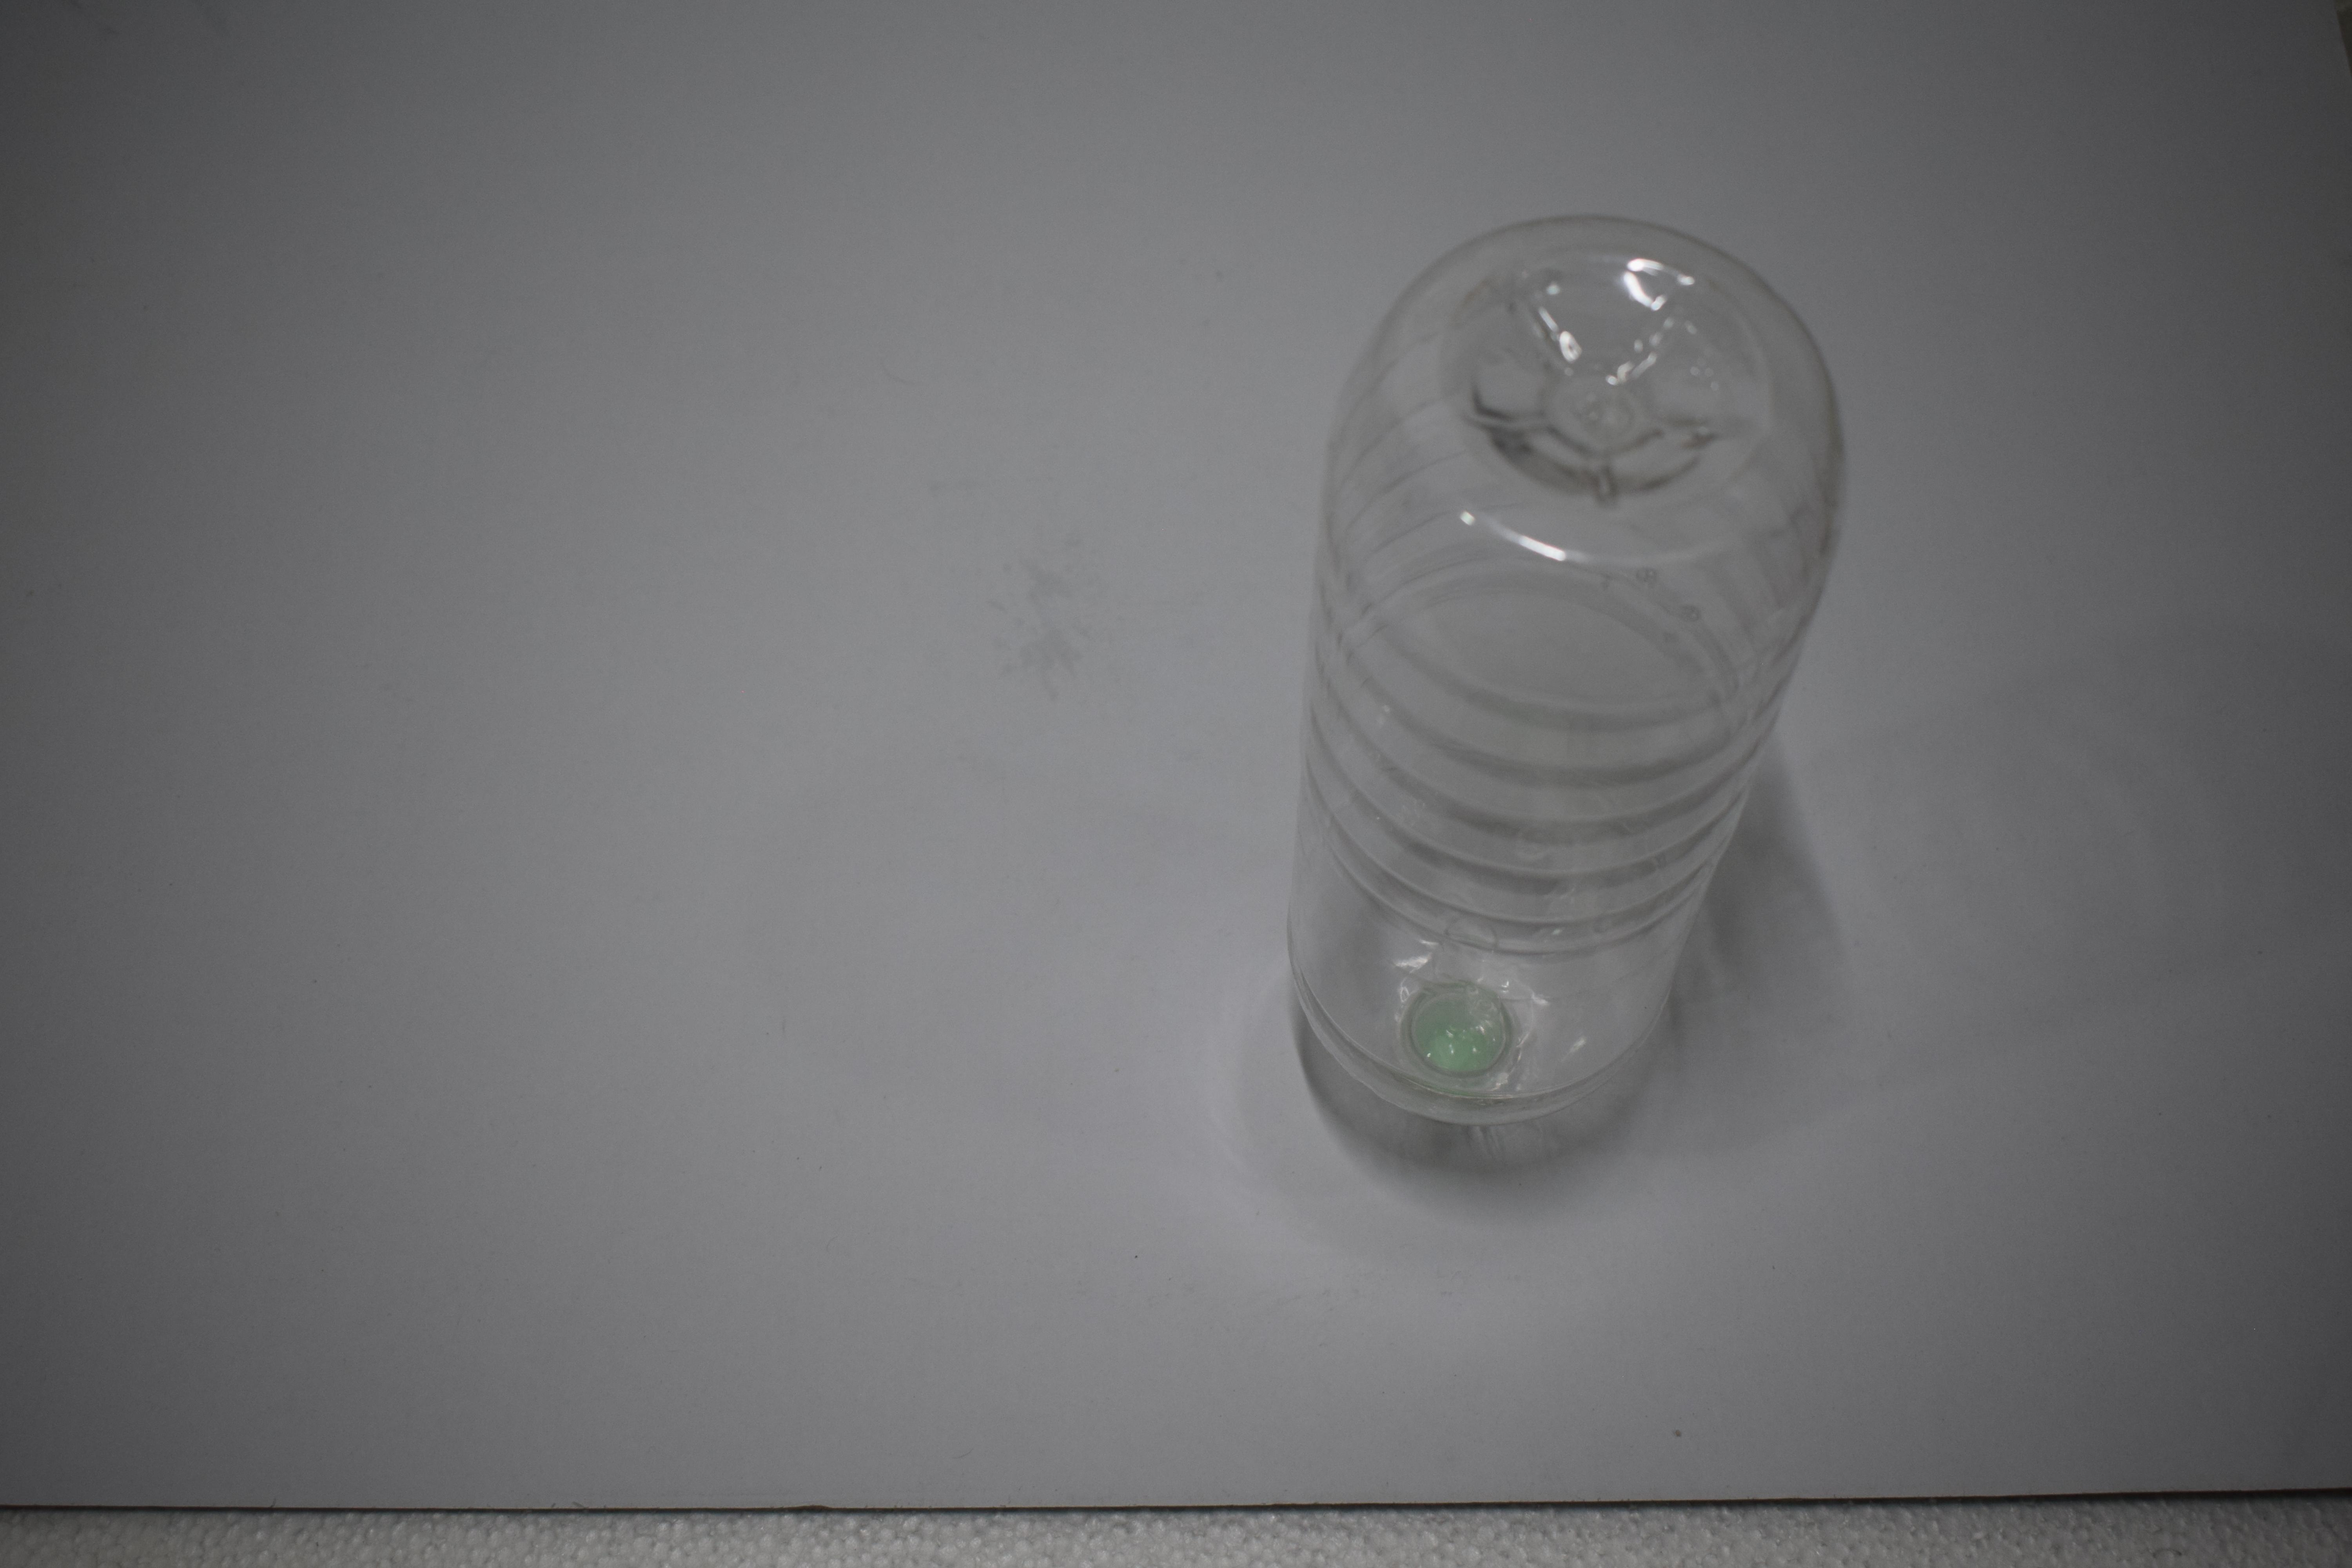bottle: (1262, 199, 1843, 1139)
